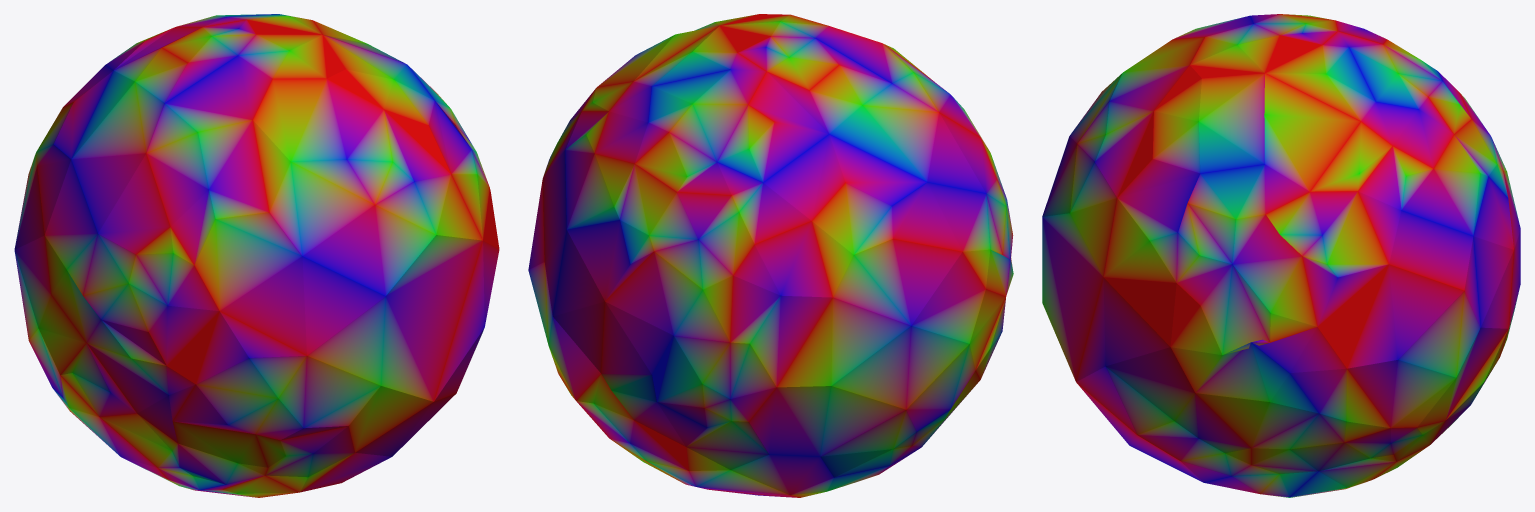
The model's file is after_decimating_reconquest_5.obj.
3 views of the same model, side by side, from view 1: azimuth 30°, elevation 25°; view 2: azimuth 150°, elevation 25°; view 3: azimuth 270°, elevation 25° (orthographic).
Bounding box in the file's own units: 1.99 × 1.99 × 1.97.
